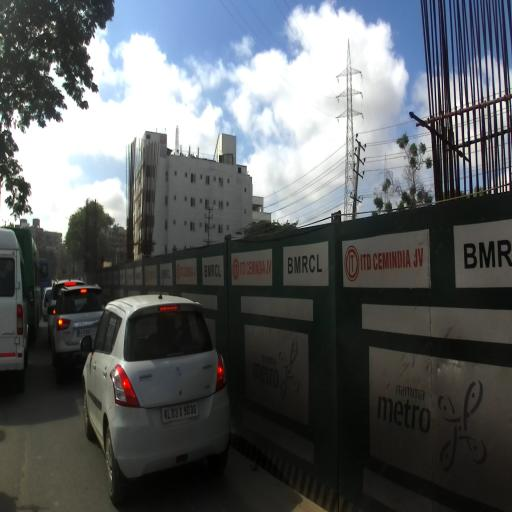street_light_0: (65, 217, 75, 223)
